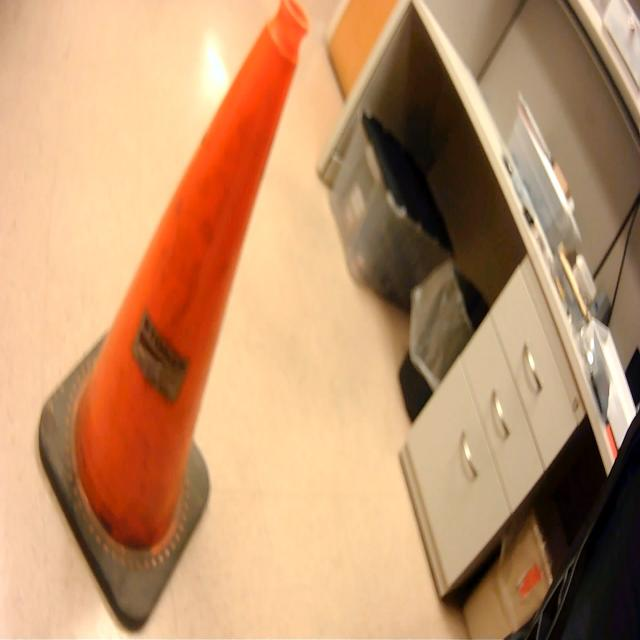traffic cone: (36, 1, 316, 636)
